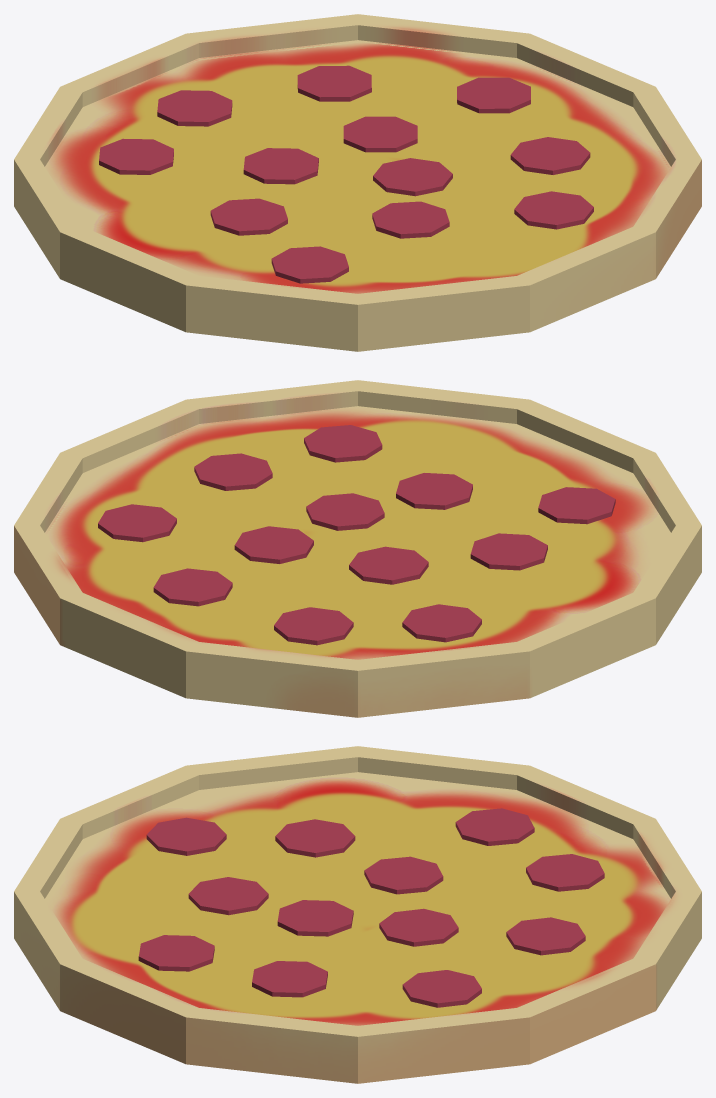
The model's file is RawPepperoni.fbx.
3 views of the same model, one above another, from view 1: azimuth 30°, elevation 25°; view 2: azimuth 150°, elevation 25°; view 3: azimuth 270°, elevation 25° (orthographic).
Parts seen in each view (by area): view 1: PizzaBase, PepperoniCut; view 2: PizzaBase, PepperoniCut; view 3: PizzaBase, PepperoniCut.
Part boxes in pixels (x1,y1,x2,y2): PizzaBase: [14, 14, 701, 351]; PepperoniCut: [99, 65, 593, 283]; PizzaBase: [14, 380, 701, 717]; PepperoniCut: [98, 425, 615, 645]; PizzaBase: [14, 746, 701, 1083]; PepperoniCut: [138, 808, 604, 1007].
Bounding box in the file's own units: 200 × 15.07 × 200.
2 materials, 1 textured.
